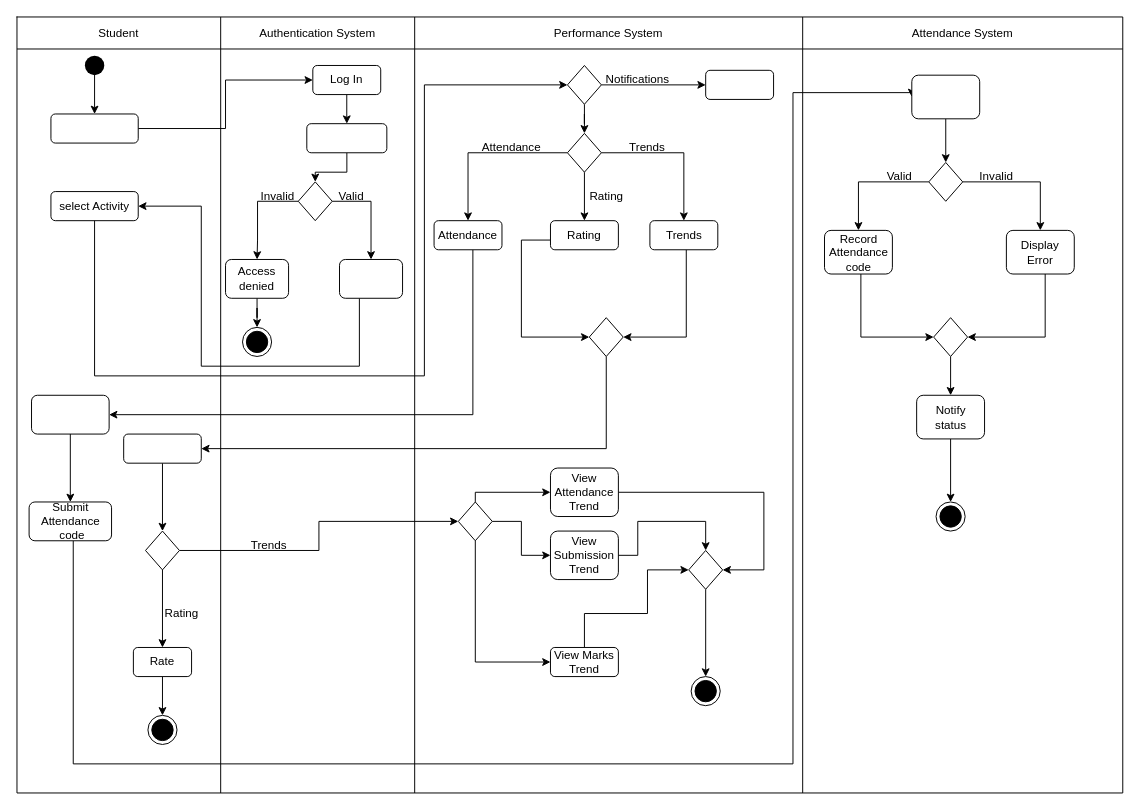
This 1140x810 diagram has some shape labels left out. Each missing label, with the box of its shape:
Access Granted: (339, 259, 403, 298)
Enter Attendance code: (31, 394, 109, 434)
Enter Credentials: (50, 113, 138, 143)
Select Module: (123, 433, 201, 463)
Validate Credntials: (306, 123, 387, 153)
Verify Attendance code: (911, 74, 980, 119)
View Notifications: (705, 69, 774, 99)
